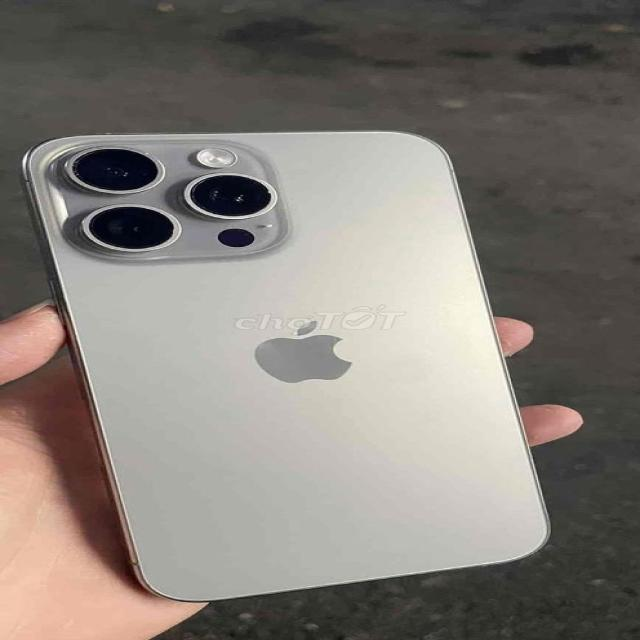physical_damage: (36, 178, 96, 228)
